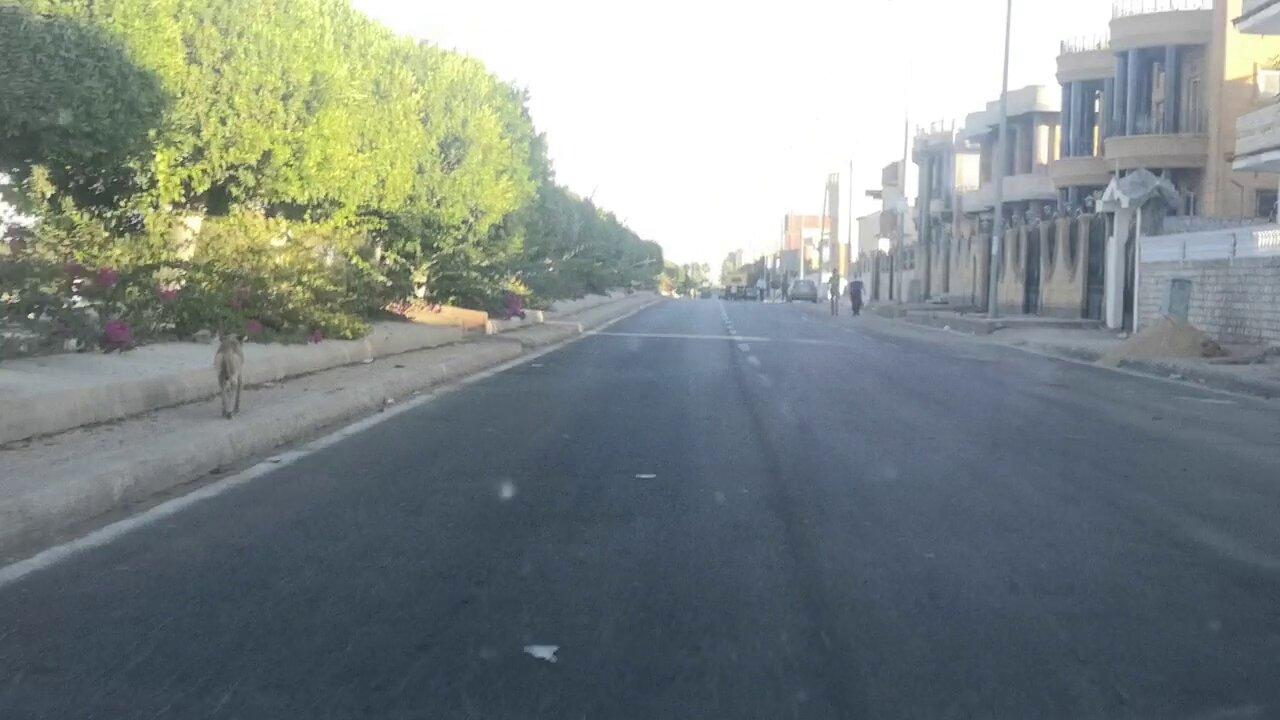Bump: (554, 333, 1061, 357)
